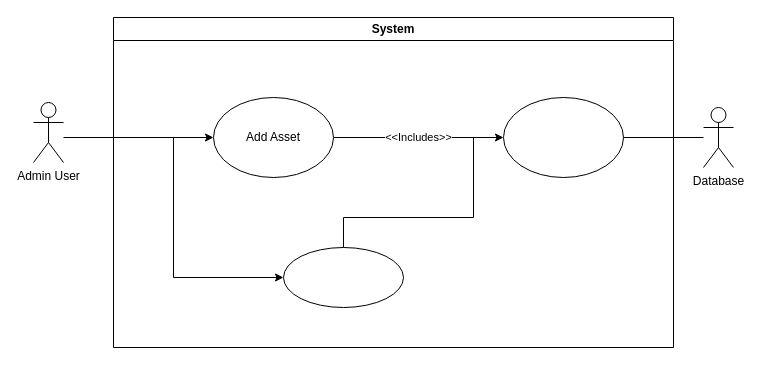
The diagram is 761 pixels wide and 365 high, and some of its shapes have lost their labels. The box of each missing label's shape, as (x1, y1, x2, y2) in pixels:
Input Validation: (502, 96, 624, 178)
Link Assets: (282, 246, 404, 308)
